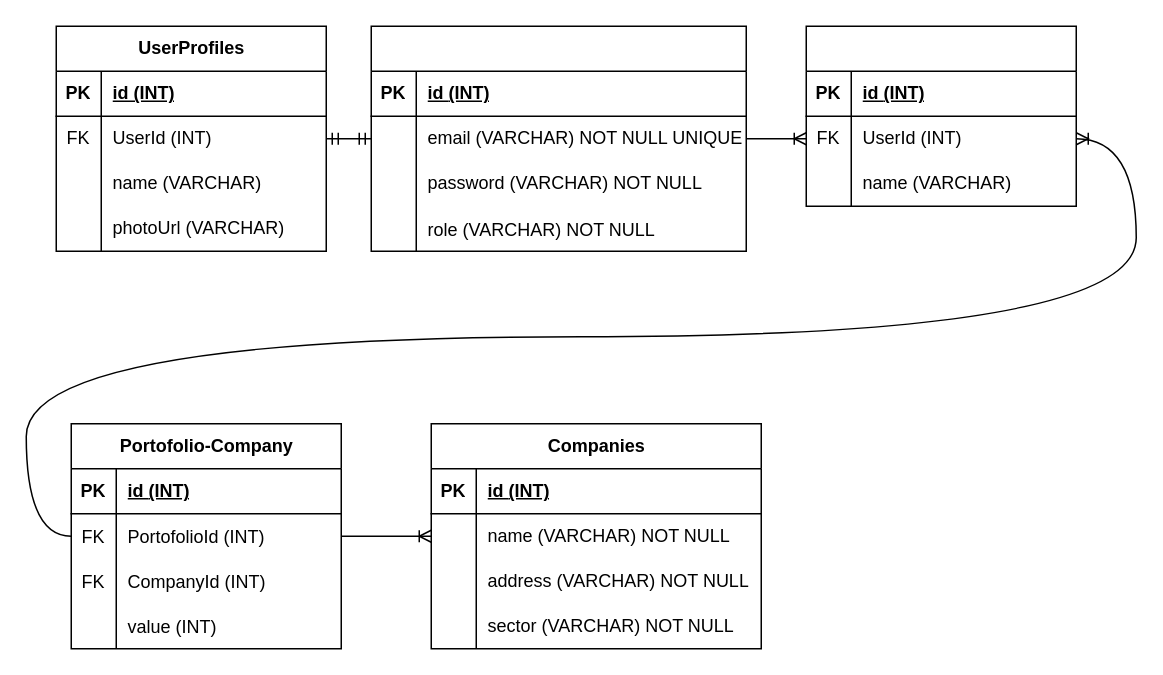
The diagram is 1163 pixels wide and 675 high, and some of its shapes have lost their labels. Here are the shapes that lost their labels. From the top down, the box of each, then its label:
(805, 25, 1076, 206): Portofolios
(370, 25, 746, 251): Users
